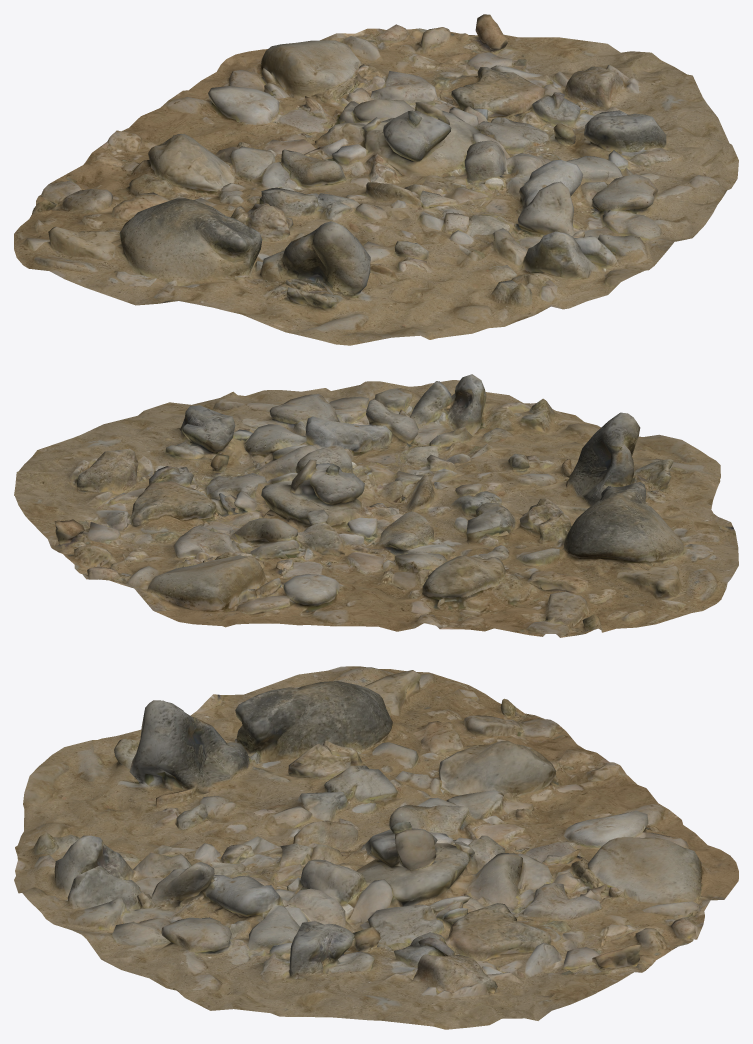
File: prop_rock_h.glb
3 renders of one model, top to bottom at view 1: azimuth 30°, elevation 25°; view 2: azimuth 150°, elevation 25°; view 3: azimuth 270°, elevation 25°, orthographic. The views are drawn at different scales.
Visible parts, largest first — view 1: sand_rocks_small_01_LOD0; view 2: sand_rocks_small_01_LOD0; view 3: sand_rocks_small_01_LOD0.
Part boxes in pixels (x1,y1,x2,y2): sand_rocks_small_01_LOD0: [14, 14, 738, 345]; sand_rocks_small_01_LOD0: [14, 374, 738, 637]; sand_rocks_small_01_LOD0: [14, 666, 738, 1029].
Bounding box in the file's own units: 4.63 × 0.5371 × 3.88.
Materials: 1 (1 with a texture image).
